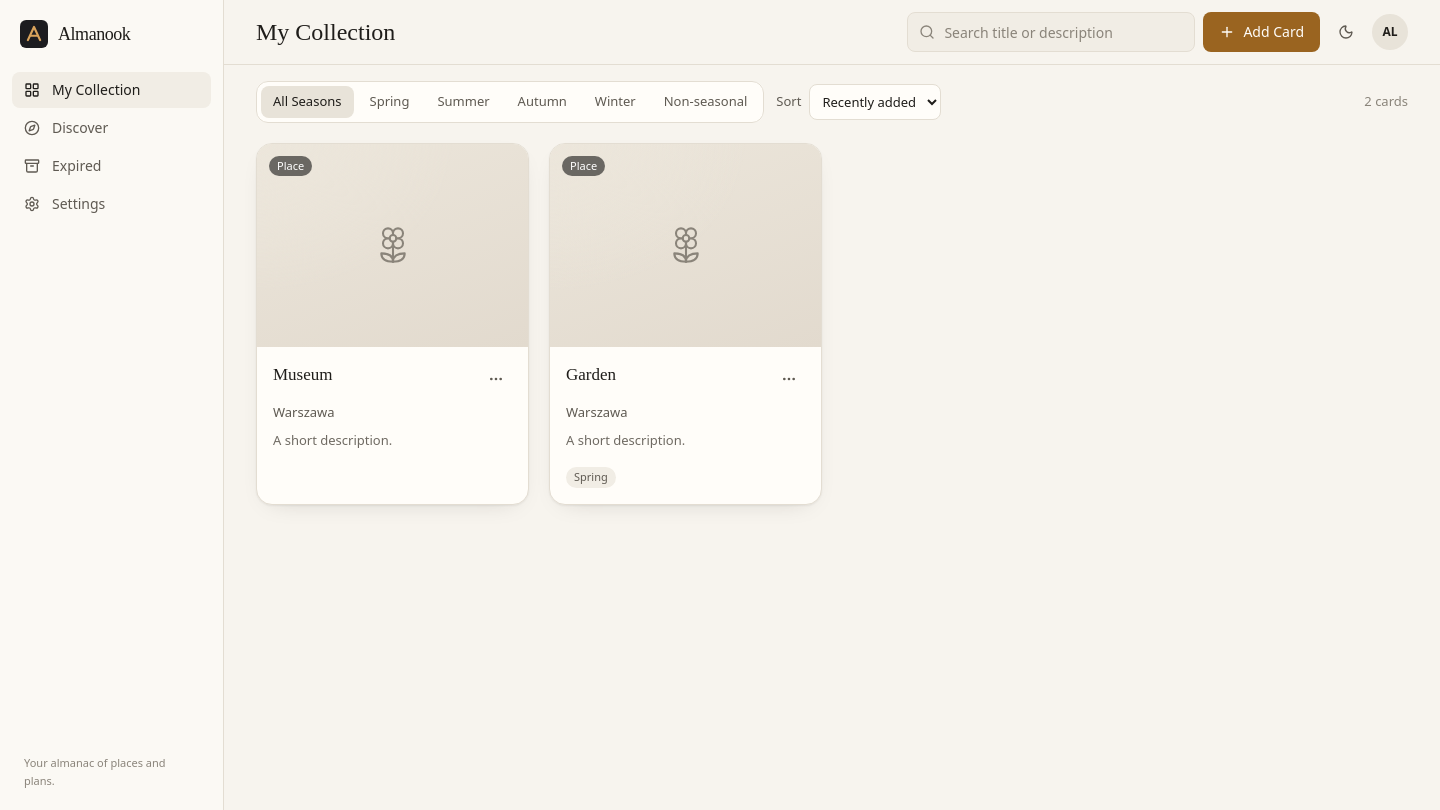
Scenario: My Collection › sends the season filter and sort to the API and can clear them
expect the element "Museum" is shown: met, box [256,142,529,505]
expect the radio button labelled "All Seasons" is checked: met, box [261,86,354,118]
Click the radio button labelled "Spring" at coordinates (389, 101), box [370,92,409,110]
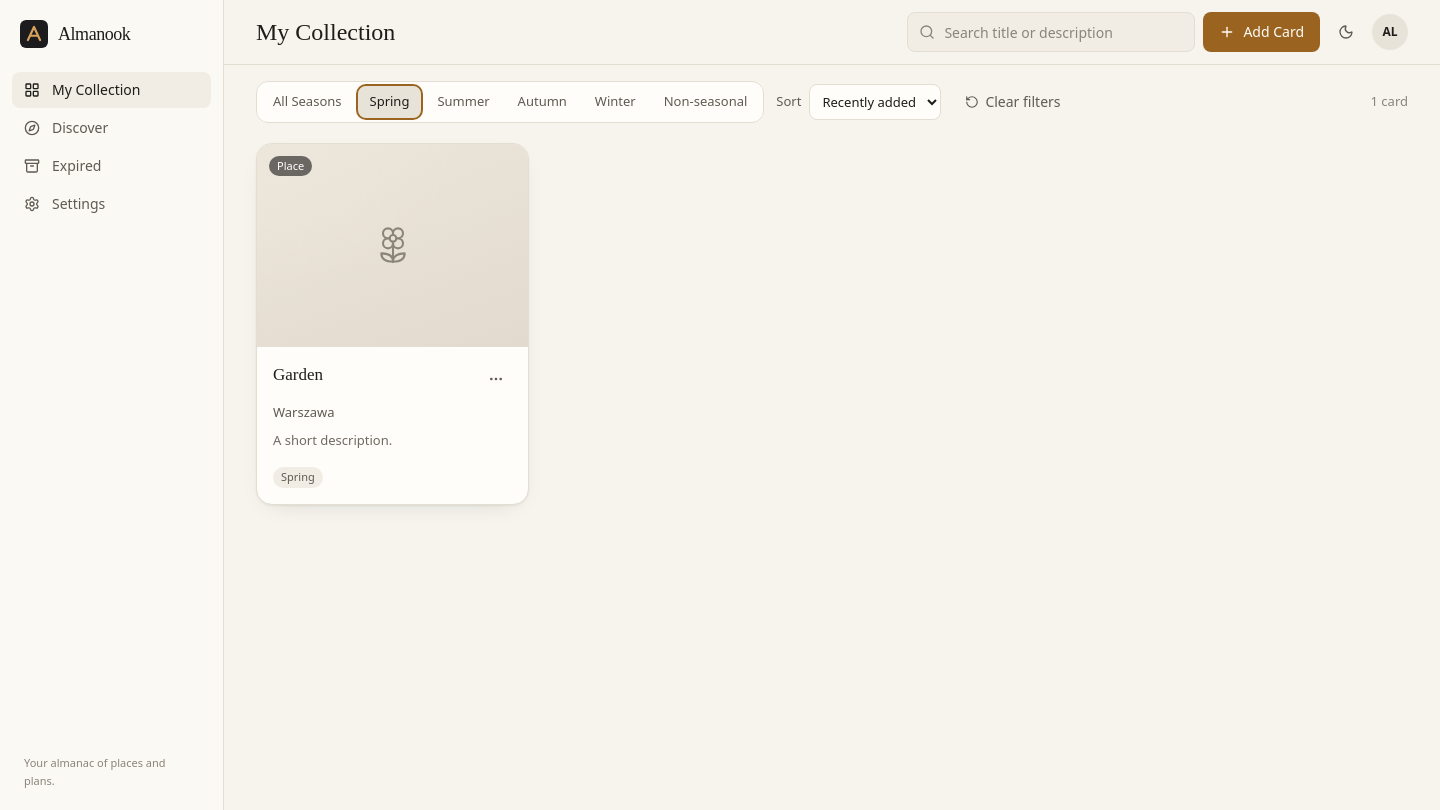
expect the button "Museum" is gone: met
Select "Event date" in the dropdown labelled "Sort" at coordinates (875, 102), box [809,84,941,120]
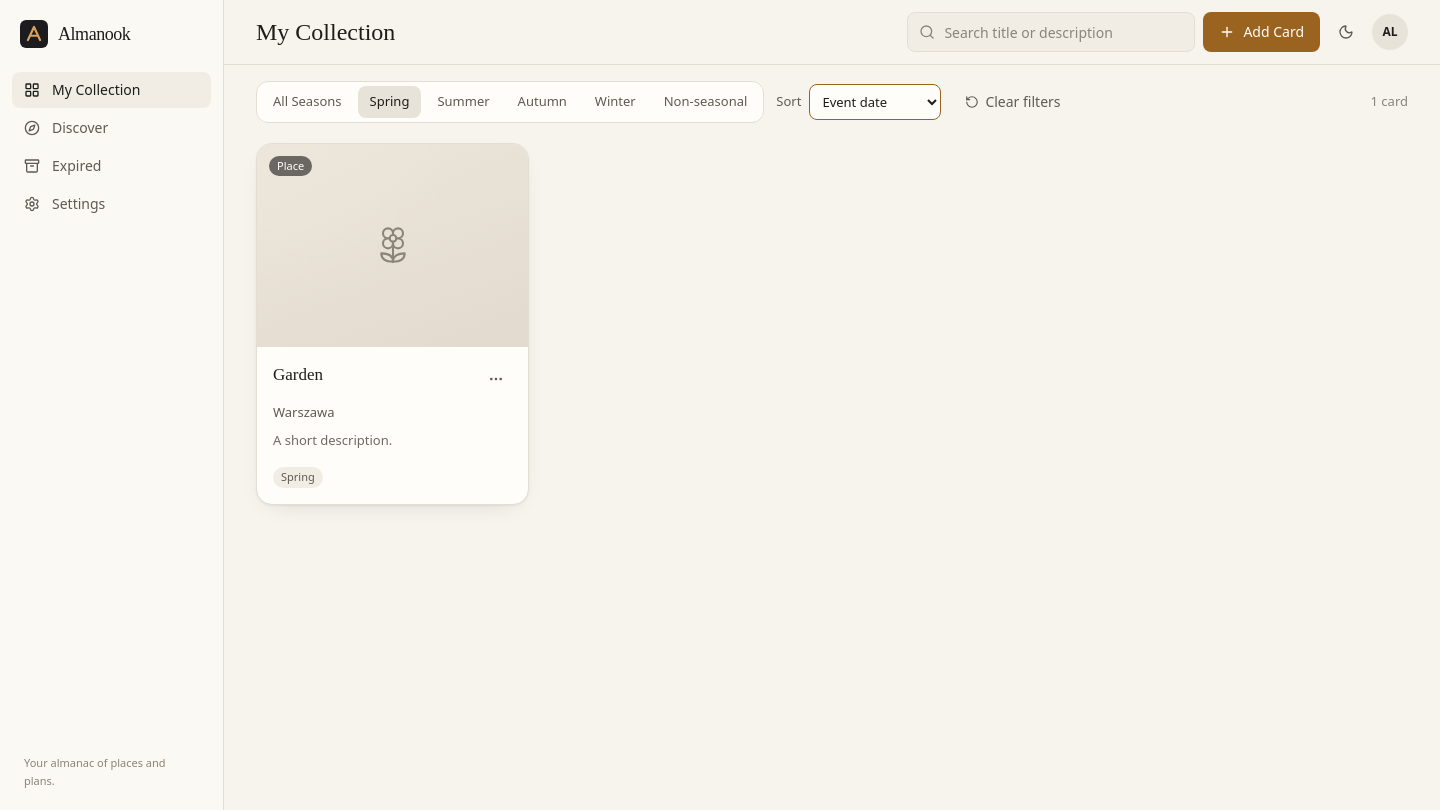
Click the button "Clear filters" at coordinates (1013, 102), box [953,86,1072,118]
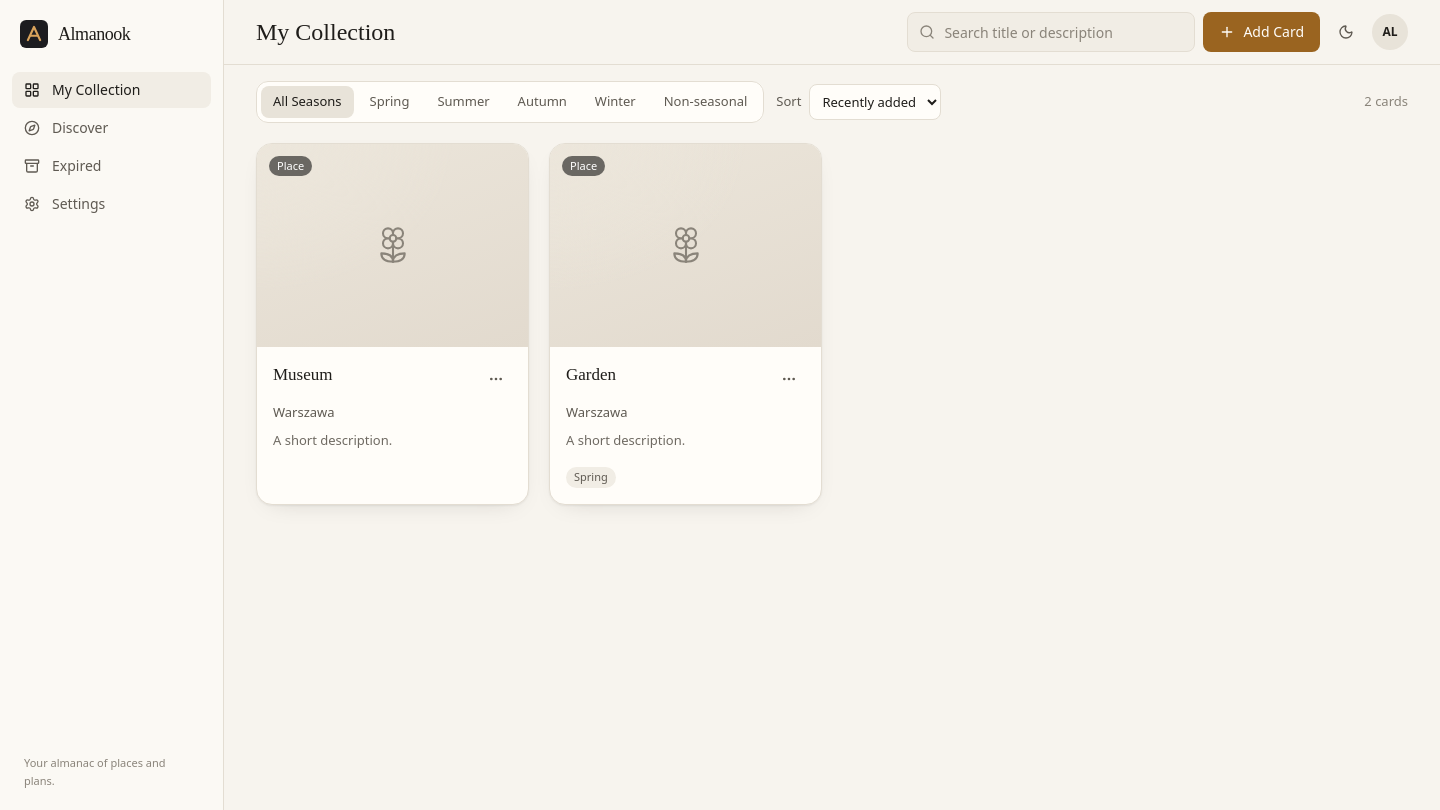
expect the radio button labelled "All Seasons" is checked: met, box [261,86,354,118]
